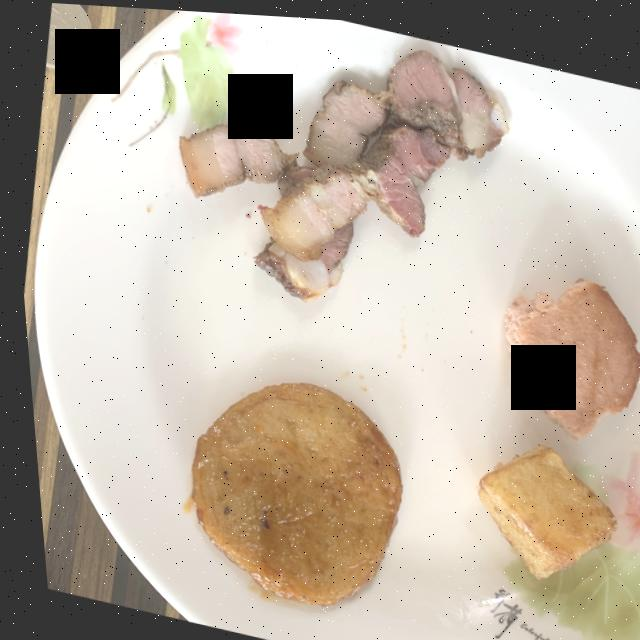Spam: (499, 270, 637, 433)
coin: (44, 2, 92, 67)
fish cake: (183, 378, 393, 601)
fried potato: (469, 437, 608, 571)
grilled pork: (177, 44, 506, 296)
